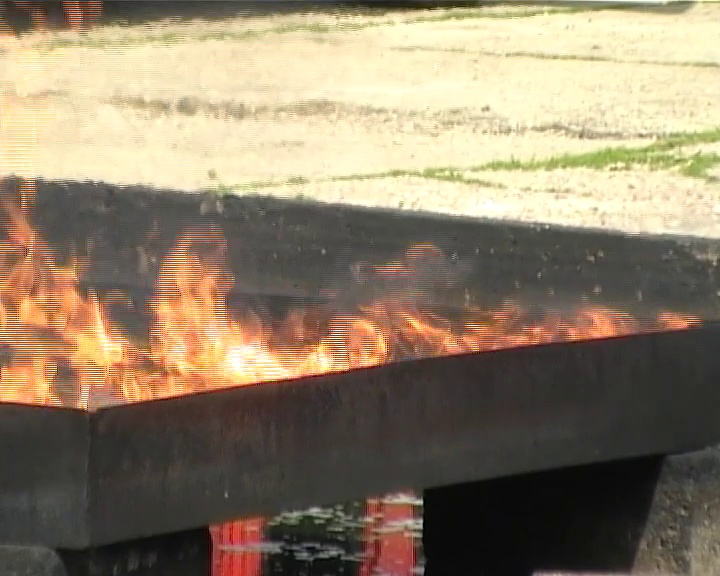fire: (1, 217, 296, 407), (297, 299, 637, 374), (659, 309, 703, 330)
